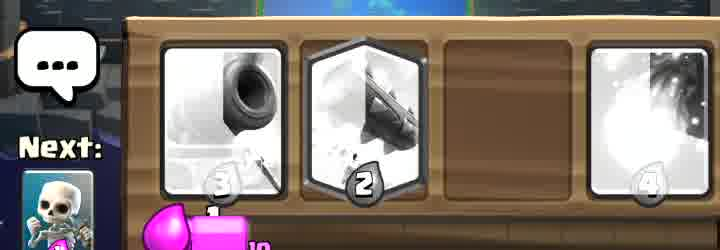skeleton: (24, 171, 93, 250)
